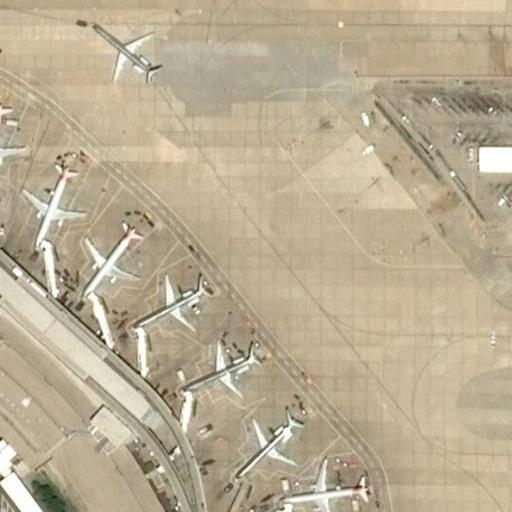Aircraft: (131, 277, 224, 339), (18, 167, 86, 251), (85, 14, 165, 82), (279, 457, 376, 512), (183, 341, 269, 395), (76, 223, 140, 295), (238, 418, 302, 477), (0, 102, 28, 188)
